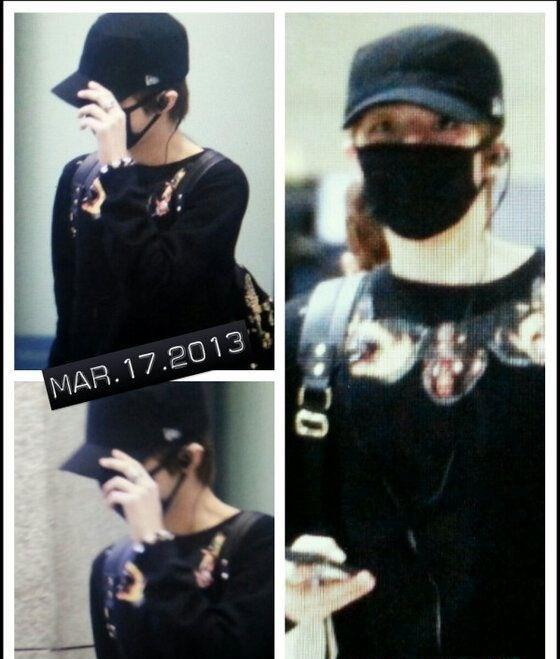OK: (362, 101, 492, 231)
